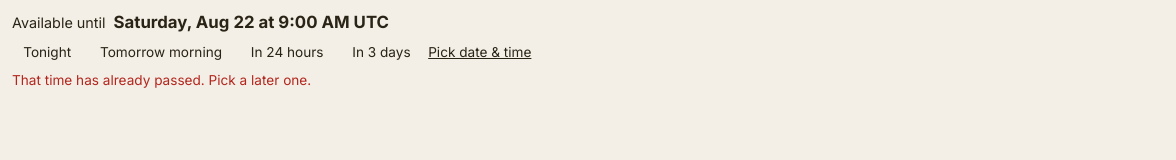
Scenario: AvailableUntil › choosing › shows the picker in the coach own clock, not UTC
Click the button "Pick date & time". click: x=480, y=52
box: [420,32,539,72]
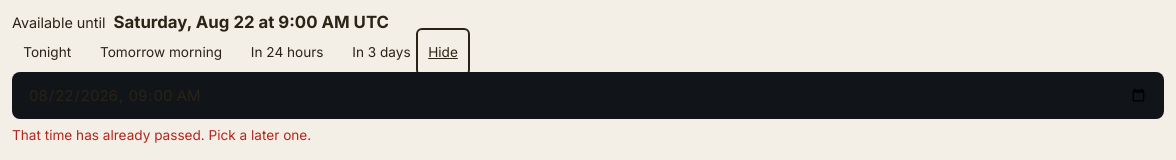
Expected: the field named "Available until date and time" holds "2026-08-22T09:00", [12,72,1164,119]
